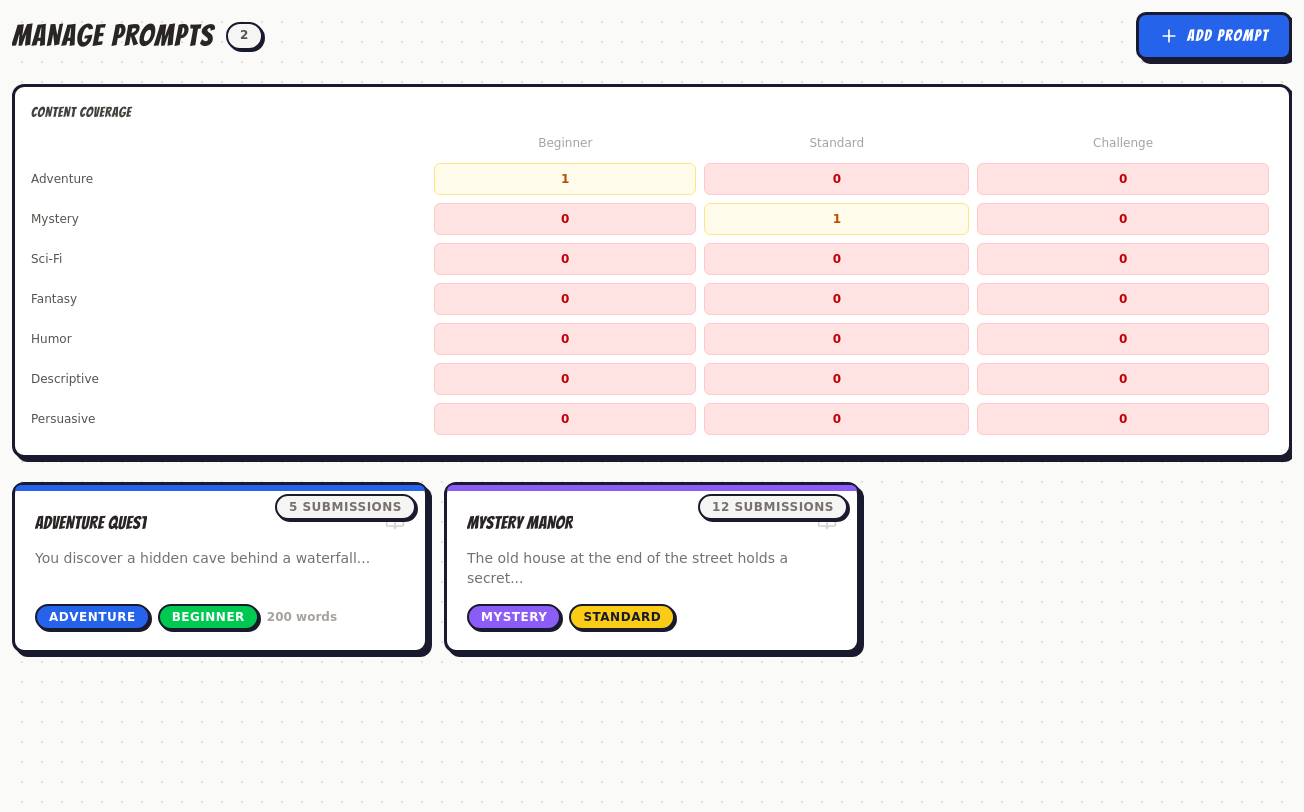
Test: AdminPrompts › Create form › switches to create view on "Add Prompt" click
The width and height of the screenshot is (1304, 812).
Step 1. Click the button "Add Prompt" → (1214, 36), box [1136, 12, 1292, 60]
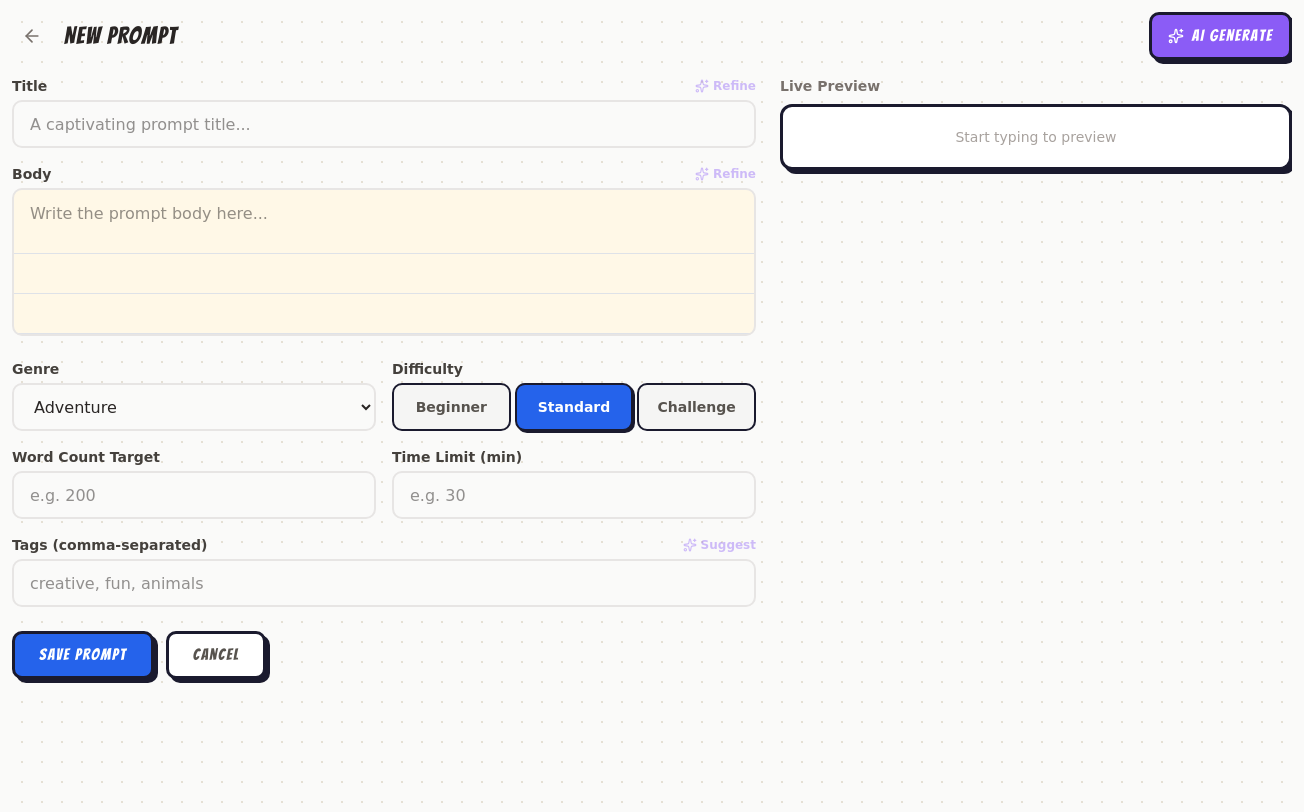
Expected: the heading "New Prompt" is shown, [64, 20, 178, 52]
Expected: the field labelled "Title" is shown, [12, 100, 756, 148]
Expected: the text box labelled "Body" is shown, [12, 188, 756, 336]
